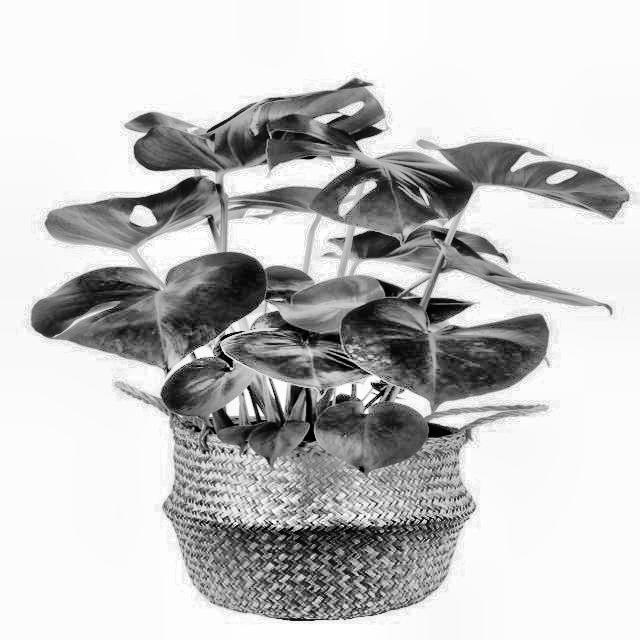plants: (39, 82, 598, 608)
